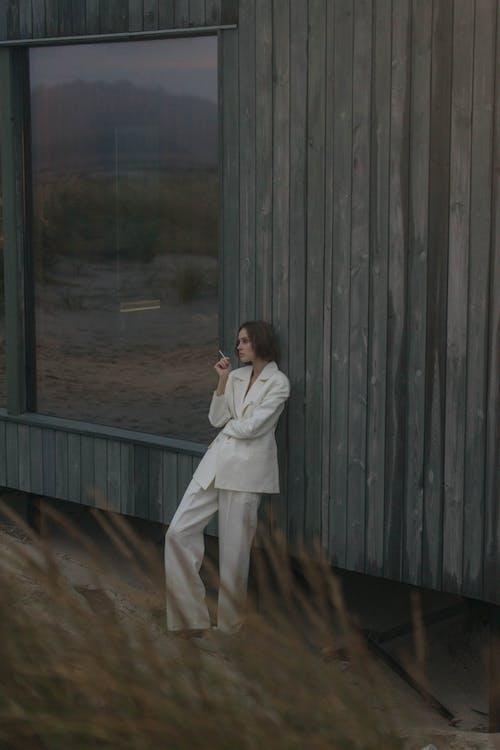cigarette: (217, 345, 227, 364)
